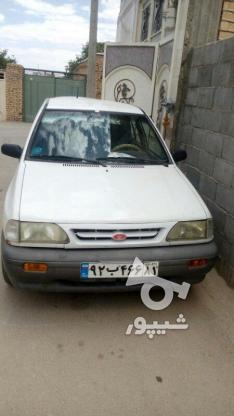car: (79, 260, 158, 280)
